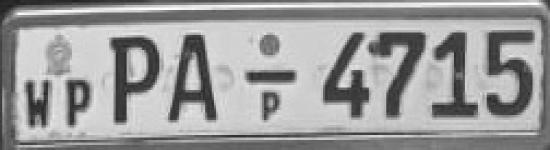-: (244, 68, 300, 92)
1: (428, 25, 483, 126)
4: (312, 27, 374, 122)
5: (483, 21, 540, 127)
7: (375, 27, 429, 123)
A: (163, 32, 228, 129)
P: (106, 33, 162, 129), (63, 75, 97, 129)
W: (22, 75, 59, 131)
